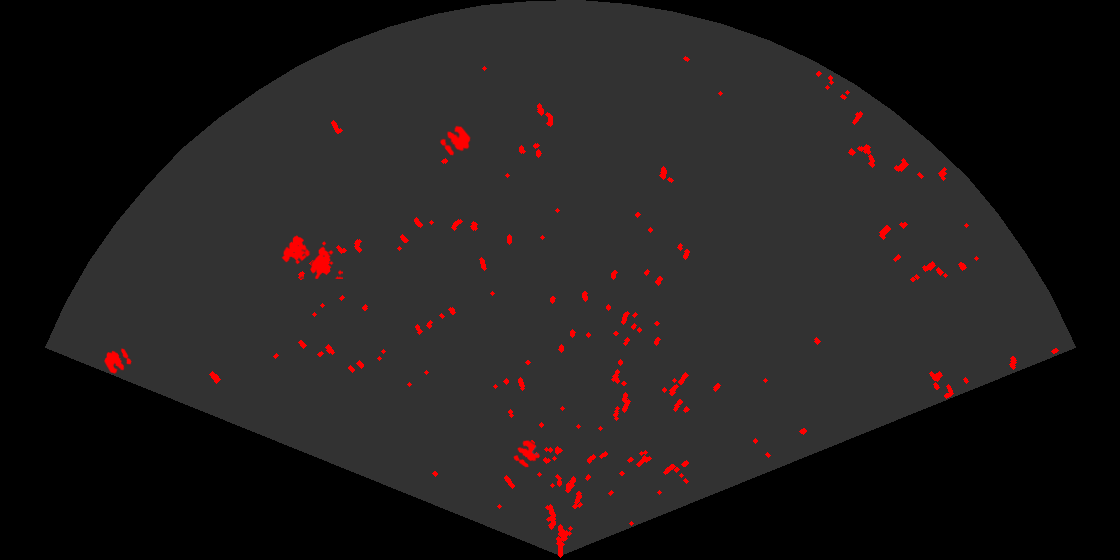ball: (438, 124, 472, 157), (512, 439, 542, 469), (102, 347, 133, 375)
cage: (280, 234, 343, 279)
